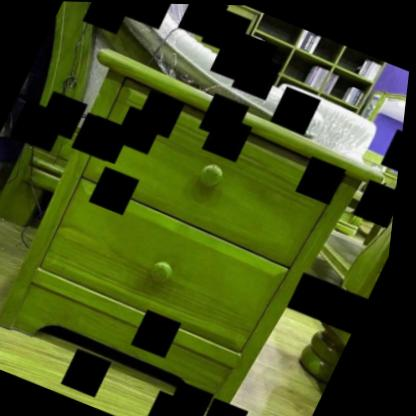Nightstand: (0, 44, 405, 416)
